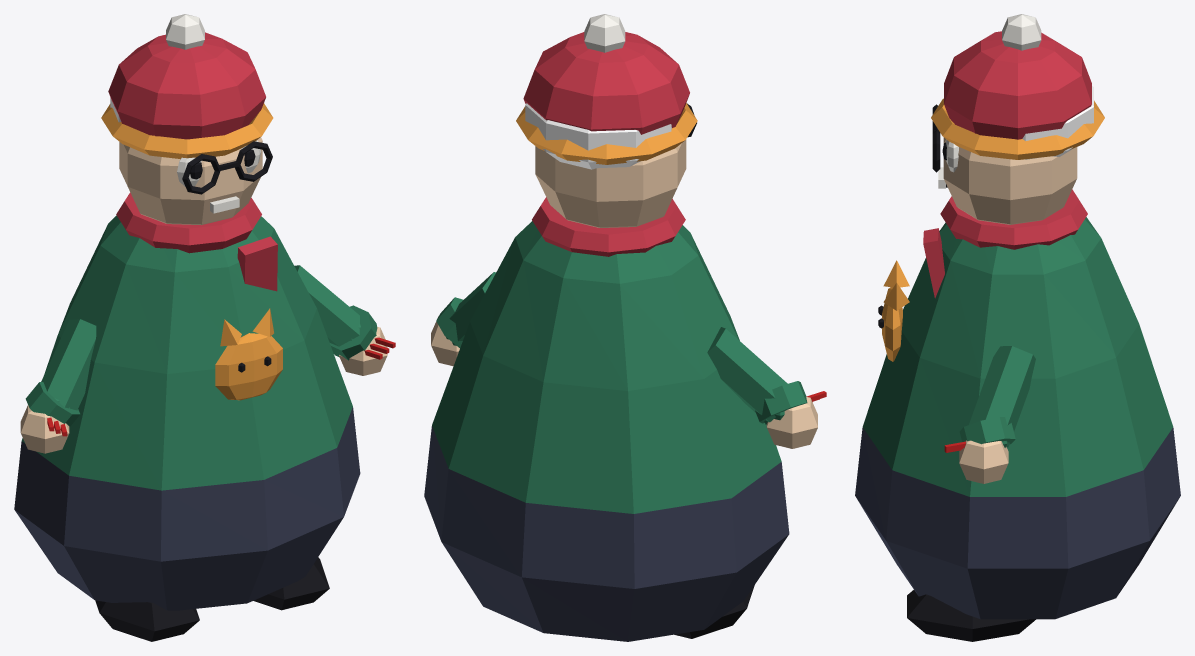
The model's file is npc_sobrino_tia.glb.
3 views of the same model, side by side, from view 1: azimuth 30°, elevation 25°; view 2: azimuth 150°, elevation 25°; view 3: azimuth 270°, elevation 25° (orthographic). The views are drawn at different scales.
Parts seen in each view (by area): view 1: body_aunt_sweater, body_nephew_pants, beanie_aunt_wool, head_skin_crema, body_aunt_wool, arms_aunt_sweater, legs_black, body_sweater_cat, beanie_sweater_cat, arms_skin_crema, glasses_black, beanie_white (+2 smaller); view 2: body_aunt_sweater, body_nephew_pants, beanie_aunt_wool, head_skin_crema, body_aunt_wool, arms_aunt_sweater, beanie_sweater_cat, hair_hair, arms_skin_crema, beanie_white, cuff_left_aunt_sweater, legs_black (+1 smaller); view 3: body_aunt_sweater, body_nephew_pants, beanie_aunt_wool, head_skin_crema, body_aunt_wool, beanie_sweater_cat, arms_aunt_sweater, legs_black, arms_skin_crema, body_sweater_cat, beanie_white, cuff_right_aunt_sweater (+1 smaller).
Boxes of the visible parts, left/top/right/bottom form: body_aunt_sweater: left=21, top=215, right=352, bottom=490; body_nephew_pants: left=14, top=407, right=360, bottom=610; beanie_aunt_wool: left=108, top=32, right=265, bottom=139; head_skin_crema: left=119, top=137, right=262, bottom=225; body_aunt_wool: left=116, top=192, right=277, bottom=291; arms_aunt_sweater: left=41, top=265, right=360, bottom=410; legs_black: left=95, top=557, right=329, bottom=641; body_sweater_cat: left=215, top=308, right=282, bottom=400; beanie_sweater_cat: left=101, top=103, right=273, bottom=158; arms_skin_crema: left=20, top=327, right=387, bottom=453; glasses_black: left=182, top=141, right=272, bottom=194; beanie_white: left=166, top=14, right=204, bottom=49; body_aunt_sweater: left=432, top=221, right=781, bottom=513; body_nephew_pants: left=424, top=426, right=789, bottom=641; beanie_aunt_wool: left=523, top=32, right=689, bottom=134; head_skin_crema: left=535, top=139, right=686, bottom=227; body_aunt_wool: left=532, top=197, right=685, bottom=256; arms_aunt_sweater: left=446, top=272, right=787, bottom=424; beanie_sweater_cat: left=516, top=103, right=697, bottom=164; hair_hair: left=525, top=103, right=671, bottom=169; arms_skin_crema: left=431, top=321, right=817, bottom=448; beanie_white: left=584, top=14, right=625, bottom=52; cuff_left_aunt_sweater: left=755, top=381, right=807, bottom=423; legs_black: left=674, top=585, right=754, bottom=638; body_aunt_sweater: left=862, top=217, right=1173, bottom=496; body_nephew_pants: left=855, top=427, right=1180, bottom=619; beanie_aunt_wool: left=944, top=31, right=1091, bottom=139; head_skin_crema: left=943, top=137, right=1077, bottom=224; body_aunt_wool: left=923, top=189, right=1087, bottom=298; beanie_sweater_cat: left=931, top=98, right=1104, bottom=159; arms_aunt_sweater: left=969, top=346, right=1035, bottom=447; legs_black: left=907, top=590, right=1035, bottom=641; arms_skin_crema: left=959, top=440, right=1008, bottom=483; body_sweater_cat: left=882, top=260, right=909, bottom=361; beanie_white: left=1002, top=14, right=1041, bottom=50; cuff_right_aunt_sweater: left=959, top=417, right=1015, bottom=444.
Size of the model in its own units: 1.13 by 1.71 by 0.86.
